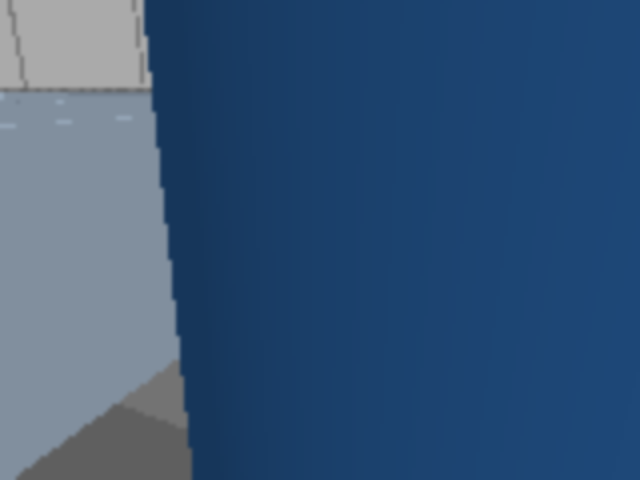obstacle: (147, 226, 234, 291), (474, 163, 508, 185)
